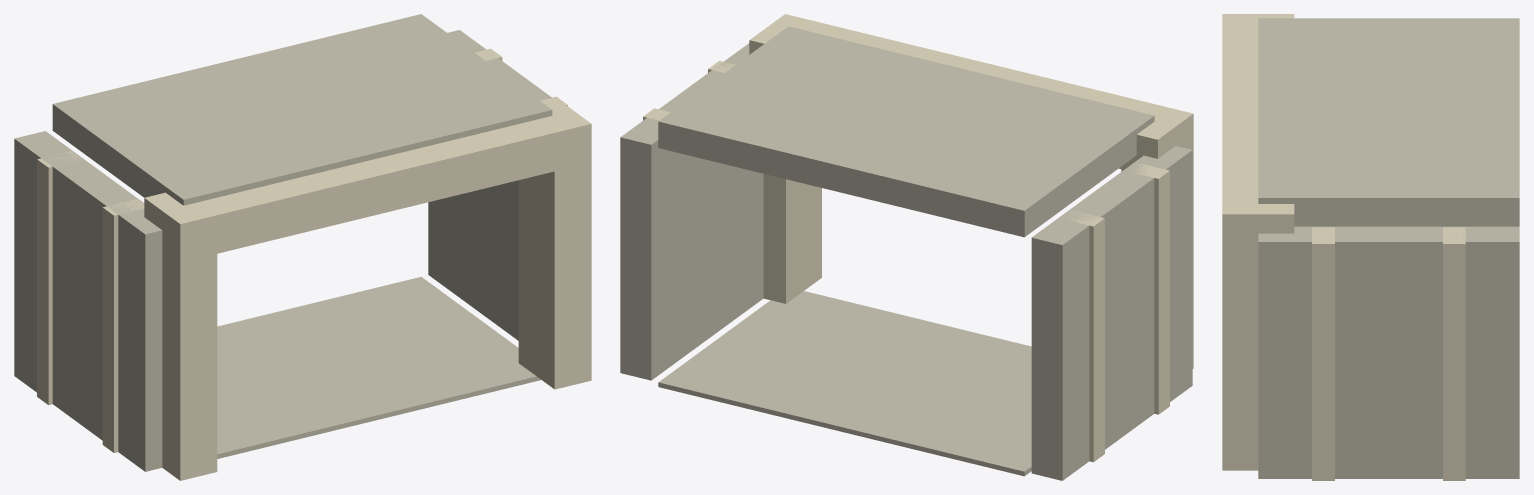
The model's file is cavern_exit_portal.glb.
The picture shows the model from 3 angles, left to right: view 1: azimuth 30°, elevation 25°; view 2: azimuth 150°, elevation 25°; view 3: azimuth 270°, elevation 25°; orthographic projection.
Parts seen in each view (by area): view 1: Exit carved jamb; view 2: Exit carved jamb; view 3: Exit carved jamb.
Part boxes in pixels (x1,y1,x2,y2): Exit carved jamb: (14, 14, 591, 480); Exit carved jamb: (620, 14, 1193, 480); Exit carved jamb: (1222, 14, 1519, 480).
Bounding box in the file's own units: 8 × 4.5 × 4.55.
